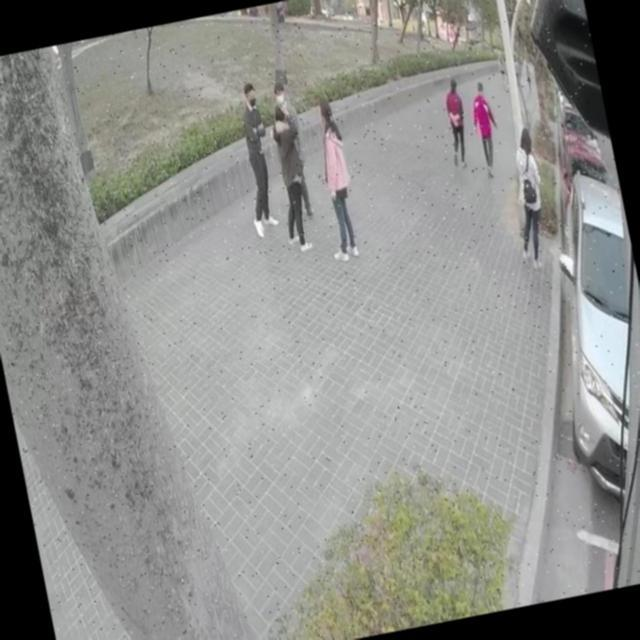person: (308, 99, 364, 264), (226, 83, 282, 236), (262, 96, 316, 247), (500, 130, 554, 264), (272, 80, 315, 204), (466, 80, 507, 177), (438, 78, 476, 168)
